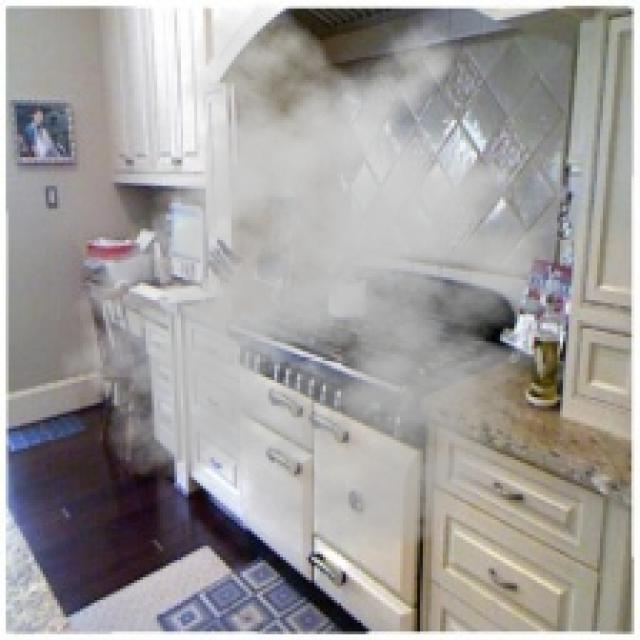Smoke: (45, 0, 606, 555)
